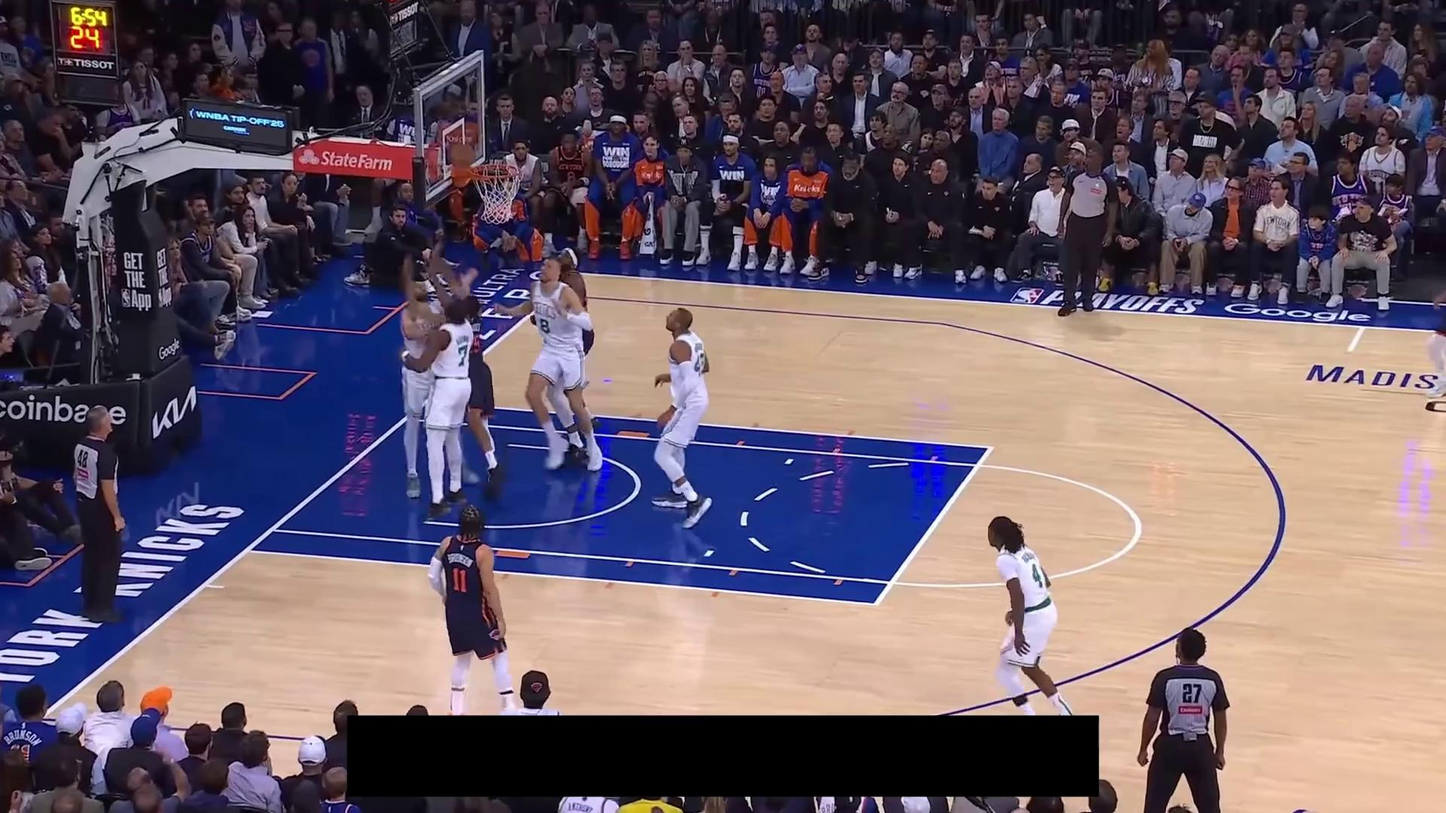ball: (449, 142, 475, 168)
number: (450, 566, 468, 595), (1030, 563, 1045, 589), (456, 344, 469, 367), (693, 352, 706, 374), (538, 316, 552, 335)
player: (493, 253, 602, 474), (427, 238, 508, 498), (426, 502, 520, 716), (397, 267, 480, 497), (398, 277, 475, 524), (986, 514, 1076, 715), (647, 306, 716, 531), (529, 244, 596, 464), (1421, 246, 1446, 403)
referee: (1137, 626, 1231, 813), (70, 405, 129, 623), (1056, 145, 1121, 316)
rim: (469, 161, 520, 181)
